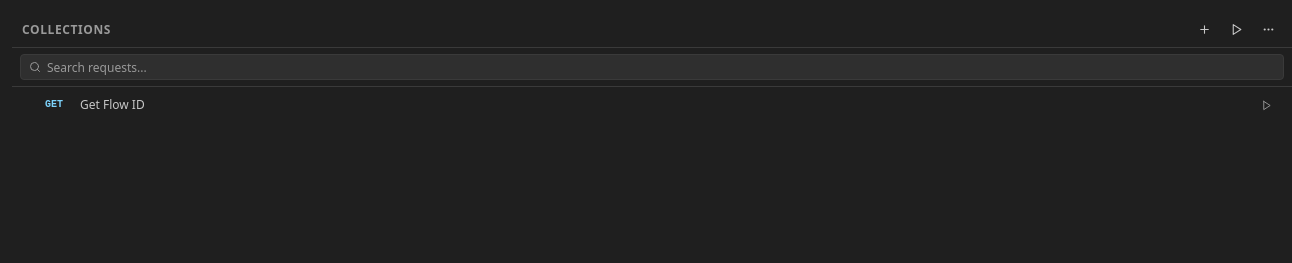
CollectionTree rename › right-click → Rename shows an inline input that stays open
This screenshot has width=1292, height=263.
Right-click the text "Get Flow ID" at (112, 104), box [80,96,145,113]
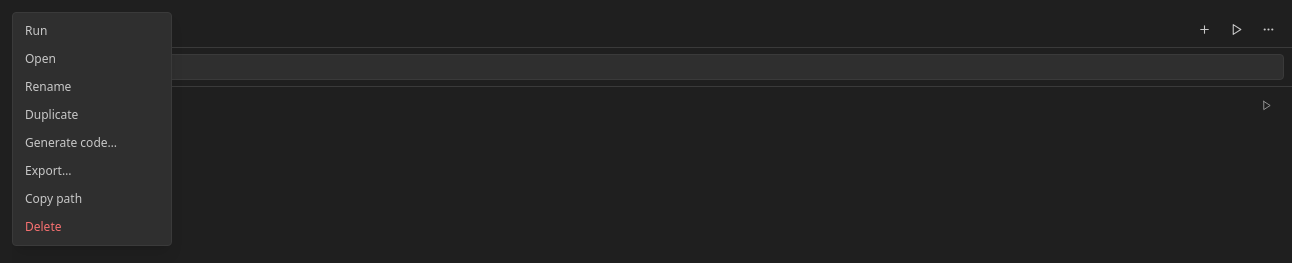
Press the mouse on the button "Rename" at (92, 87), box [13,73,171,101]
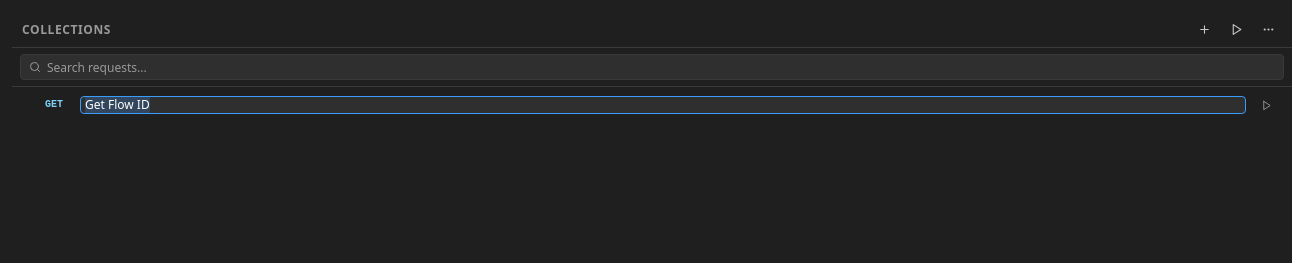
Result: the field showing "Get Flow ID" is shown at [80,96,1246,114]
